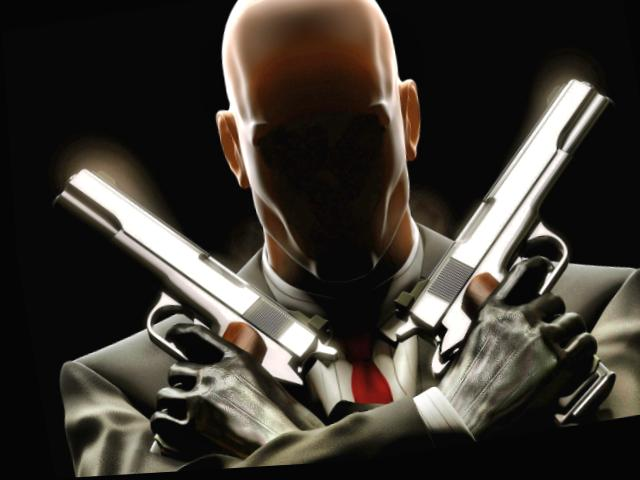pistol: (344, 74, 640, 448), (34, 131, 346, 462)
